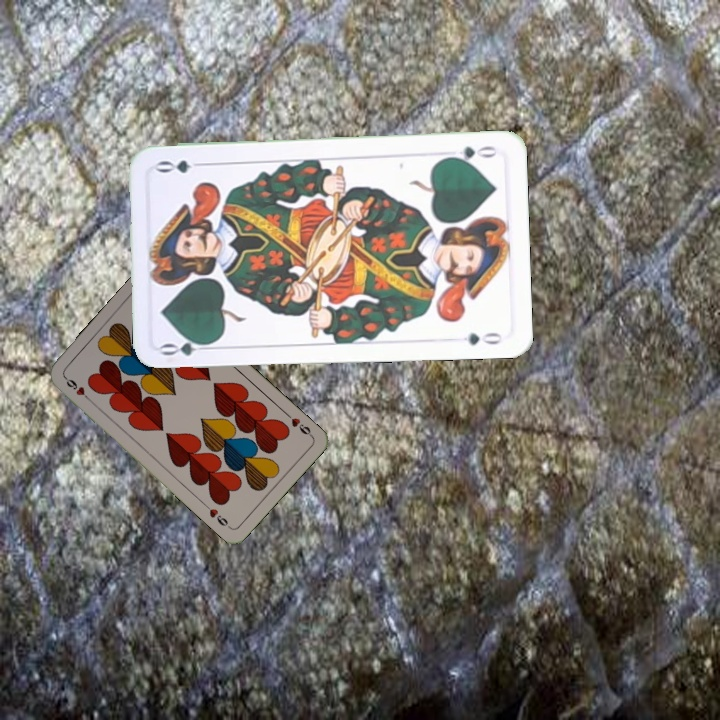GO: (158, 333, 217, 358), (442, 142, 500, 165)
H9: (281, 409, 315, 439), (61, 373, 93, 404)
